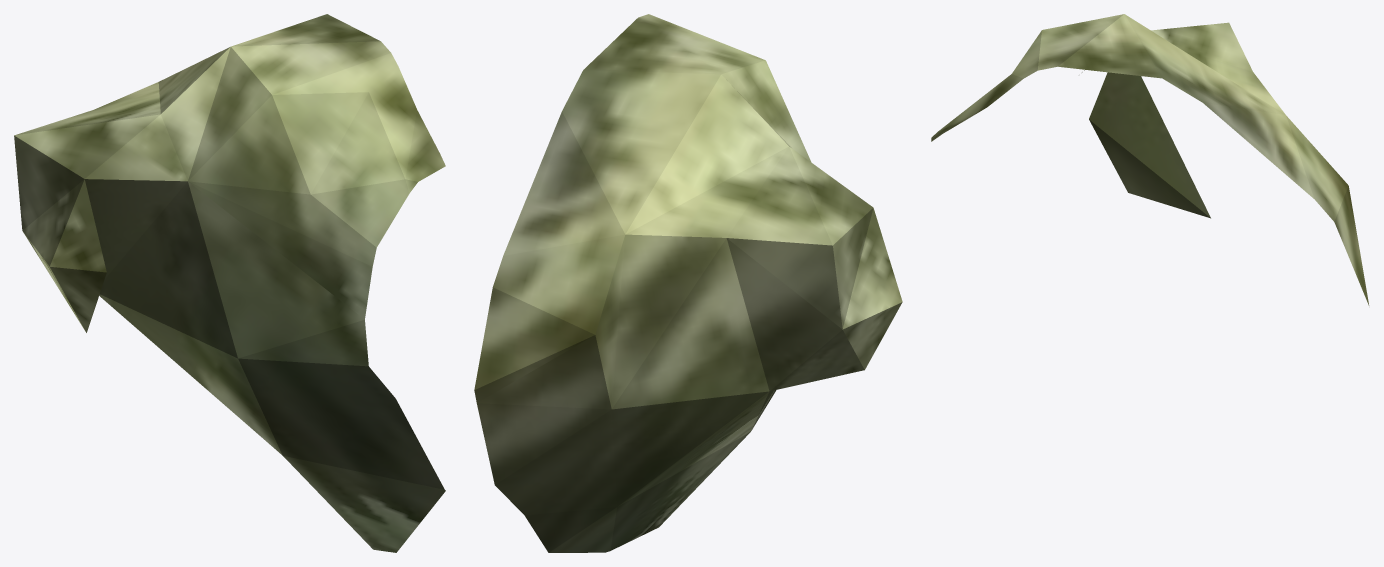
3 renders of one model, left to right at view 1: azimuth 30°, elevation 25°; view 2: azimuth 150°, elevation 25°; view 3: azimuth 270°, elevation 25°, orthographic. The views are drawn at different scales.
Bounding box in the file's own units: 0.6043 × 0.979 × 0.7992.
1 material, 1 textured.
